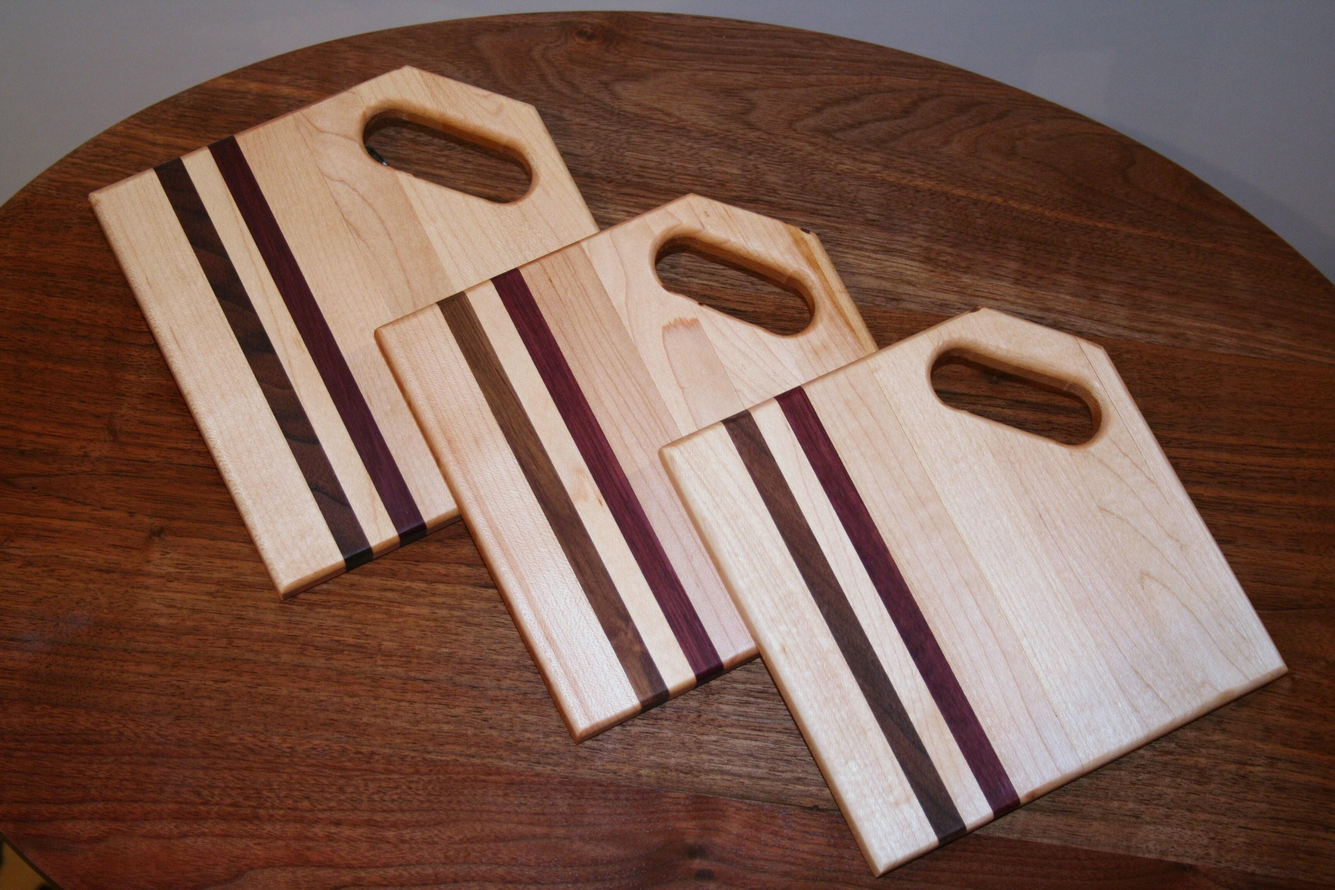gloved_hand: (657, 294, 1290, 886)
